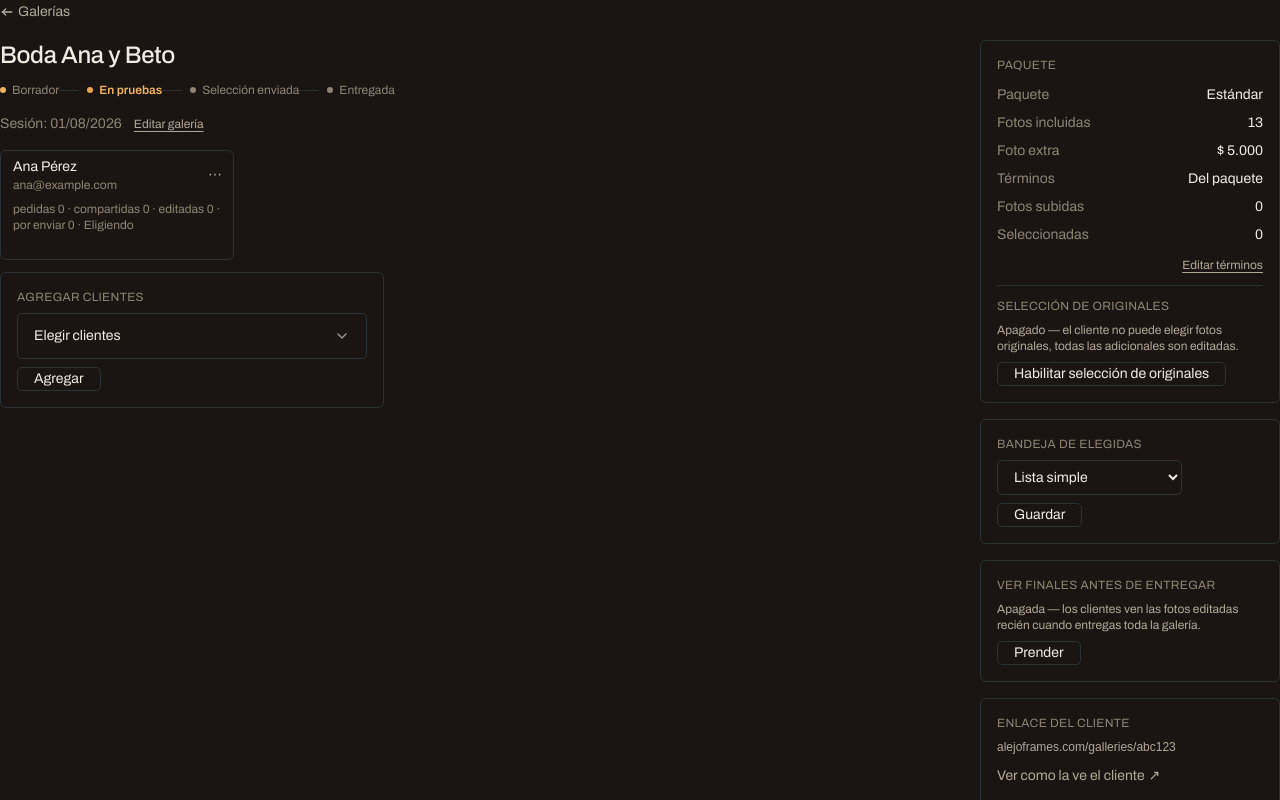
GalleryDetailPage — attaching and removing clients (task #97) › excludes an already-active client from the attach picker's options
This screenshot has width=1280, height=800.
Click the button named "Agregar clientes" at (77, 336), box [17,313,367,359]
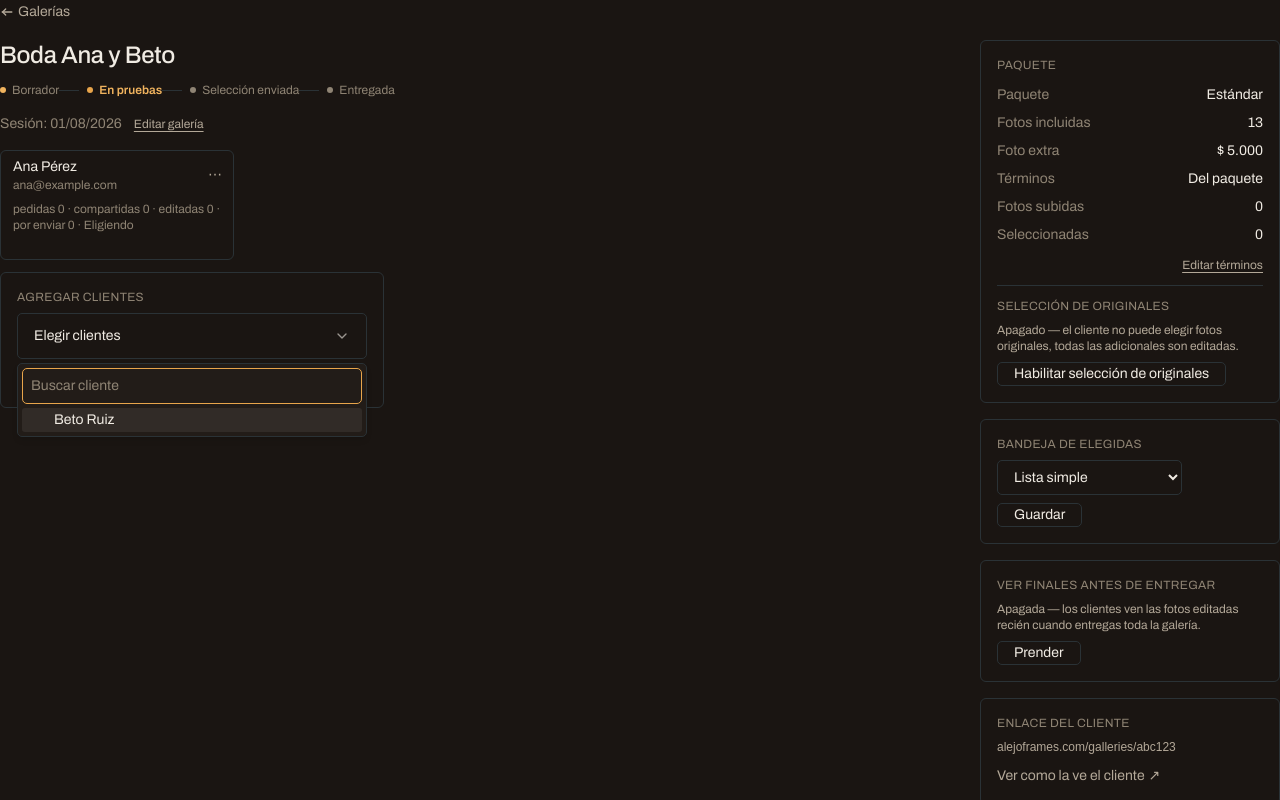
Expected: the option "Beto Ruiz" is shown, [22,408,362,432]
